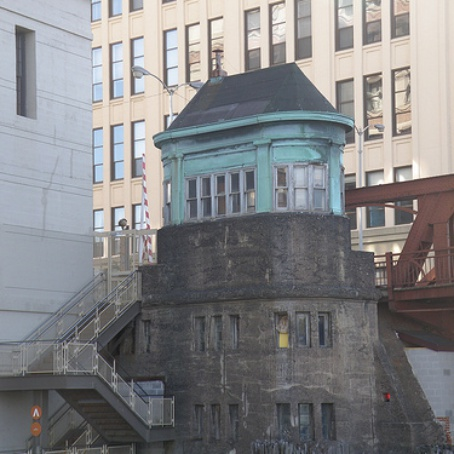building: (161, 64, 387, 454), (105, 1, 437, 237), (1, 1, 107, 434)
